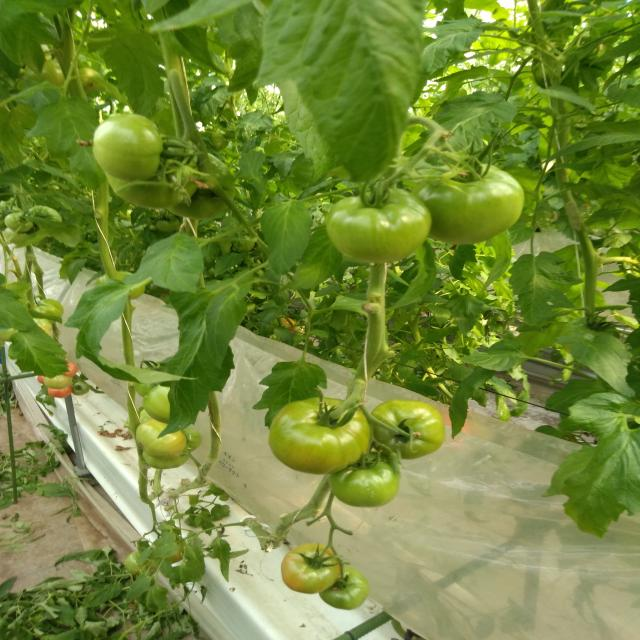yesil: (230, 312, 496, 520), (334, 182, 494, 268), (59, 108, 174, 202)
